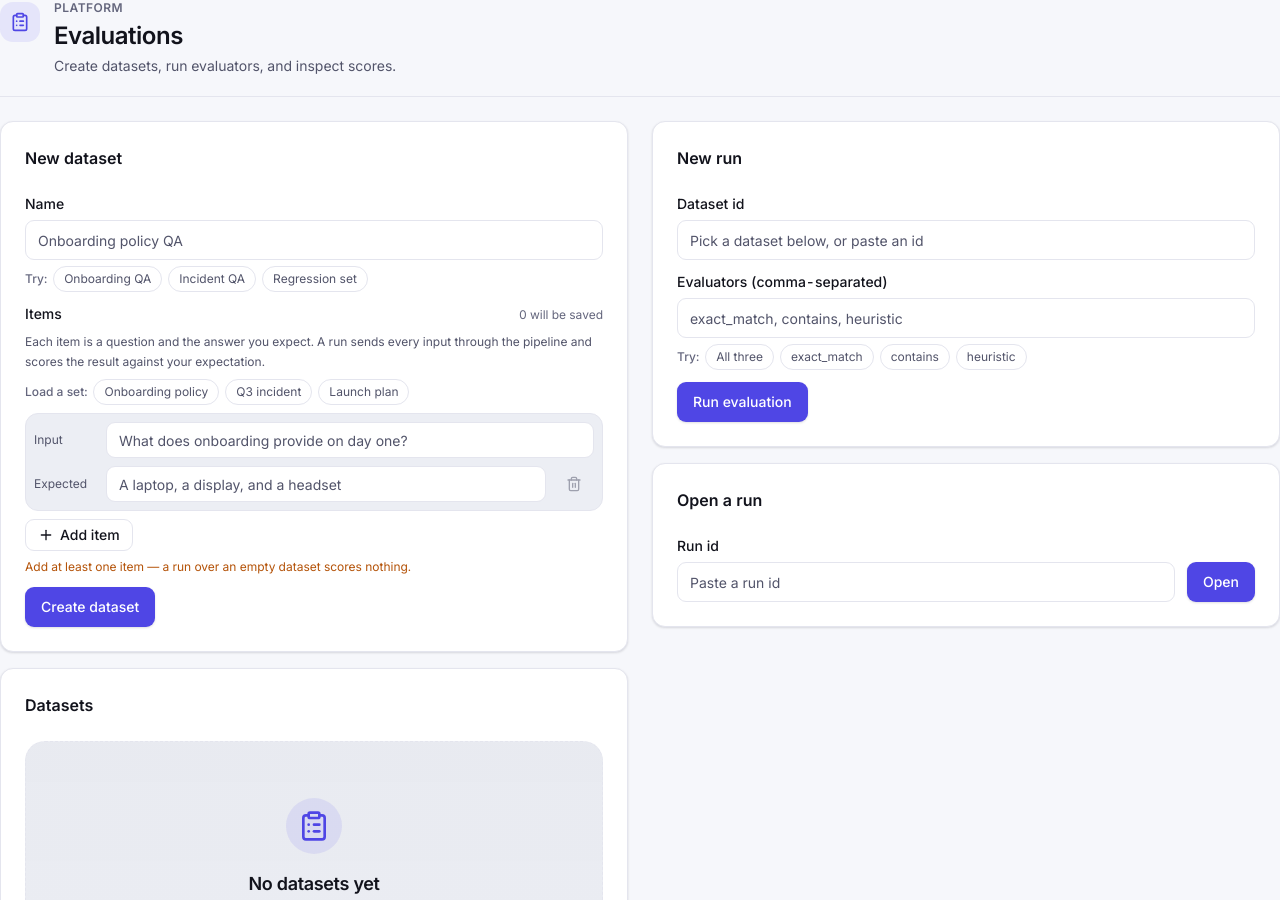
Test: EvaluationsView (MSW) › presents a cross-org/absent run as not found (14.5)
The width and height of the screenshot is (1280, 900).
Type "missing" into the field with test id "view-run-id" at point(926, 582), box 677,562 -> 1175,602
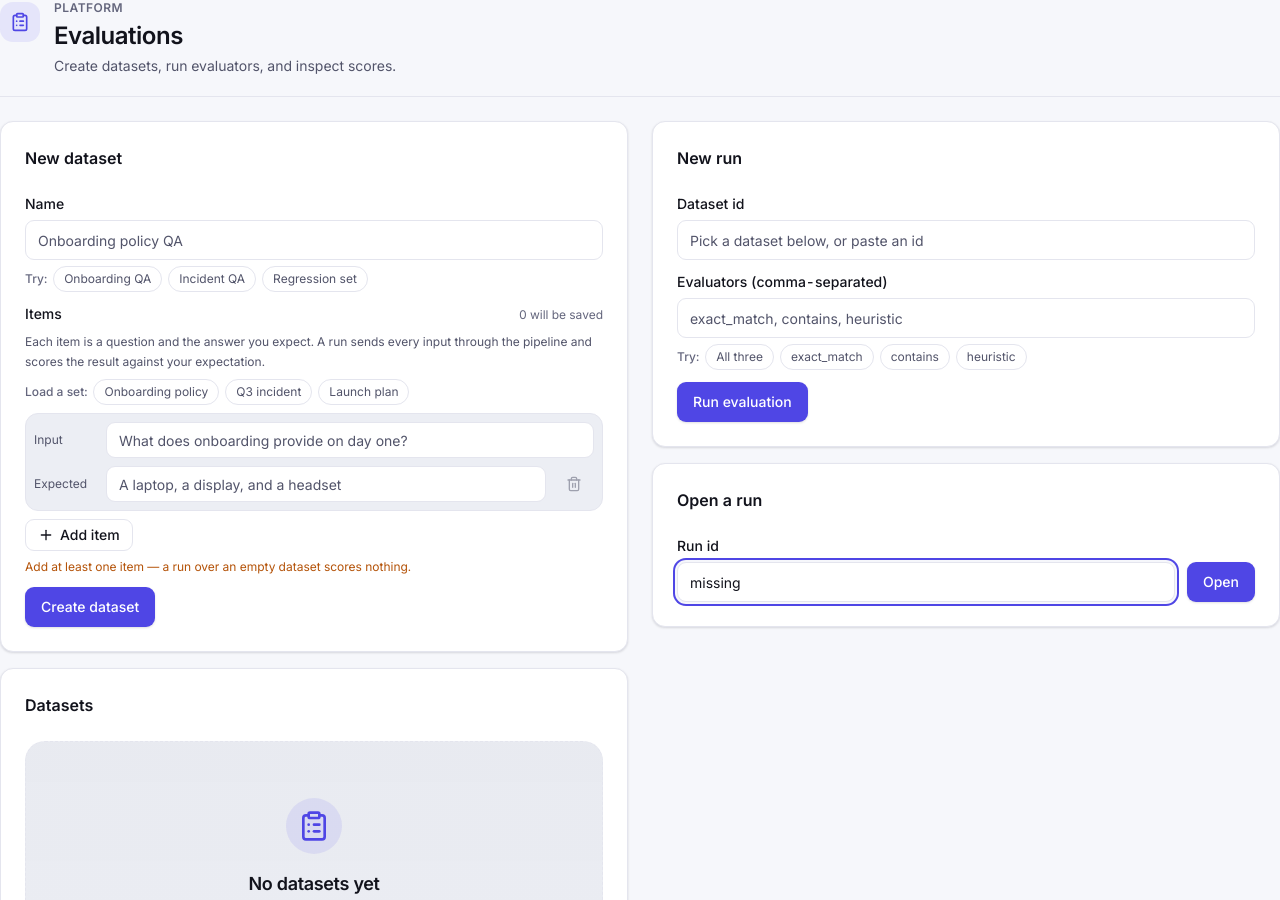
Click the button with test id "open-run-submit" at point(1221, 582), box 1187,562 -> 1255,602
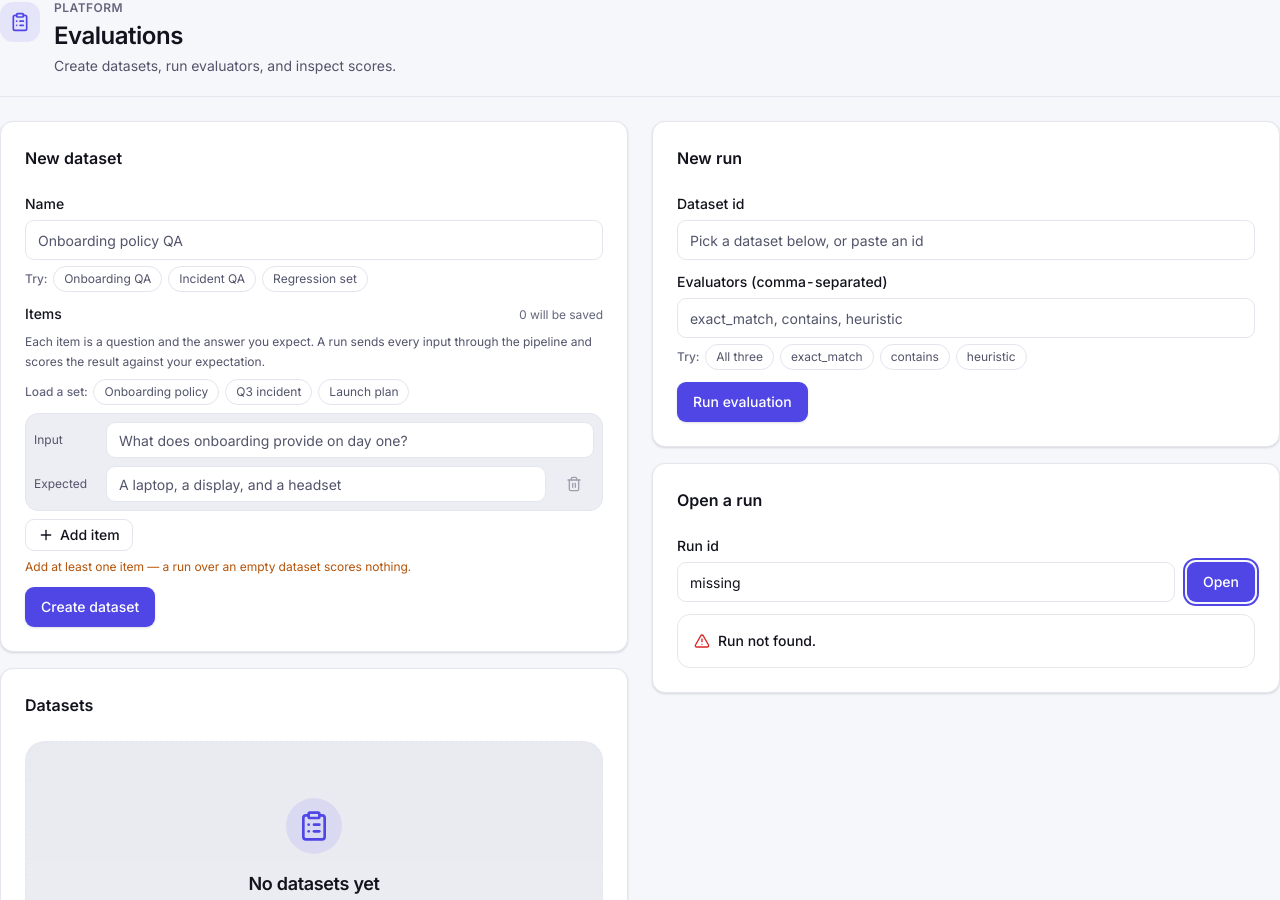
Expected: the element with test id "run-detail-error" is shown, 677,614 -> 1255,668
Expected: the message with test id "error-banner" reads "Run not found.", 718,632 -> 816,649
